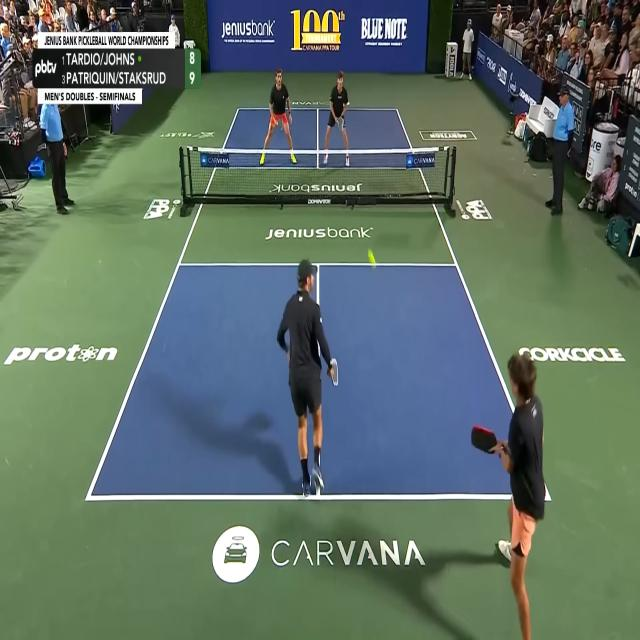ball: (368, 247, 376, 264)
